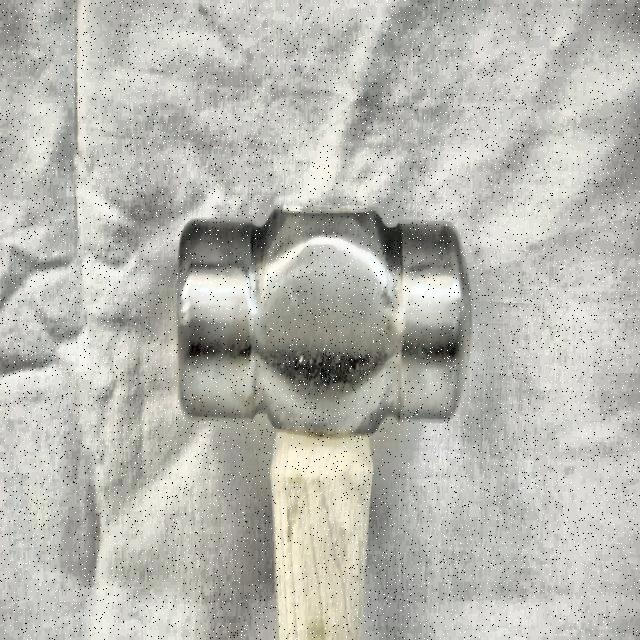hammer: (172, 202, 474, 640)
